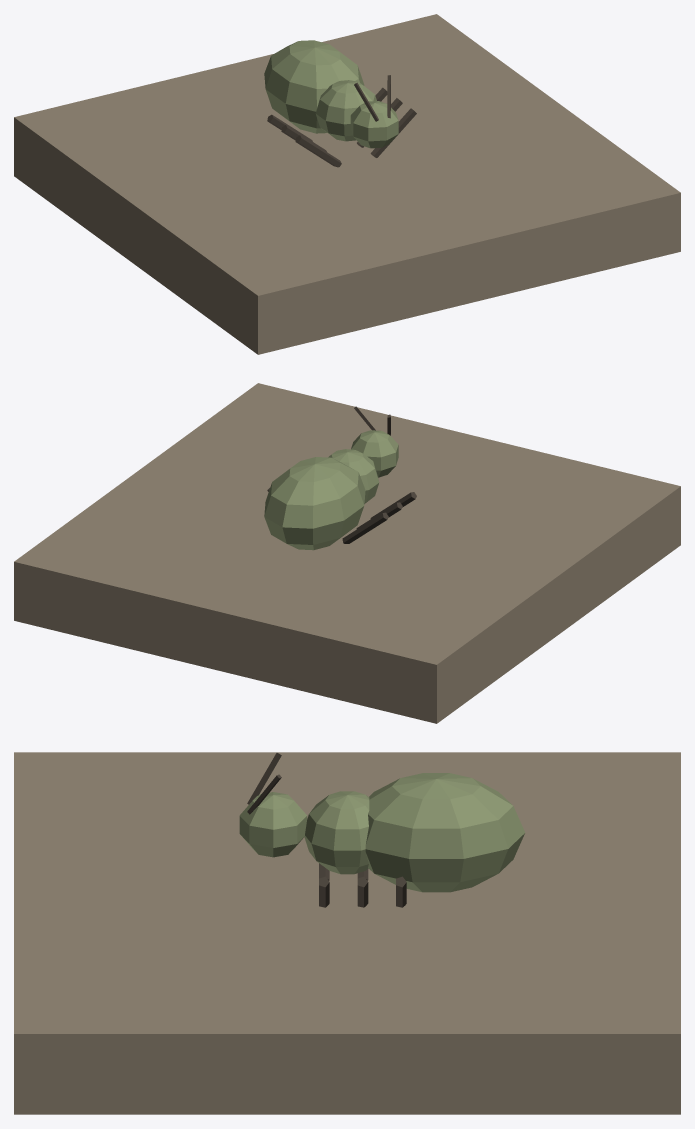
File: bug_stink.glb
3 views of the same model, one above another, from view 1: azimuth 30°, elevation 25°; view 2: azimuth 150°, elevation 25°; view 3: azimuth 270°, elevation 25° (orthographic). The views are drawn at different scales.
Visible parts, largest first — view 1: Base, TurretMesh, HeadMesh; view 2: Base, TurretMesh, HeadMesh; view 3: Base, TurretMesh, HeadMesh.
Boxes of the visible parts, x1,y1,x2,y2 form: Base: (14,14,680,354); TurretMesh: (264,40,416,167); HeadMesh: (350,75,398,148); Base: (14,383,680,723); TurretMesh: (264,449,416,550); HeadMesh: (351,406,398,477); Base: (14,752,680,1114); TurretMesh: (304,773,525,907); HeadMesh: (239,753,307,857).
Bounding box in the file's own units: 1.8 × 0.6249 × 1.8.
